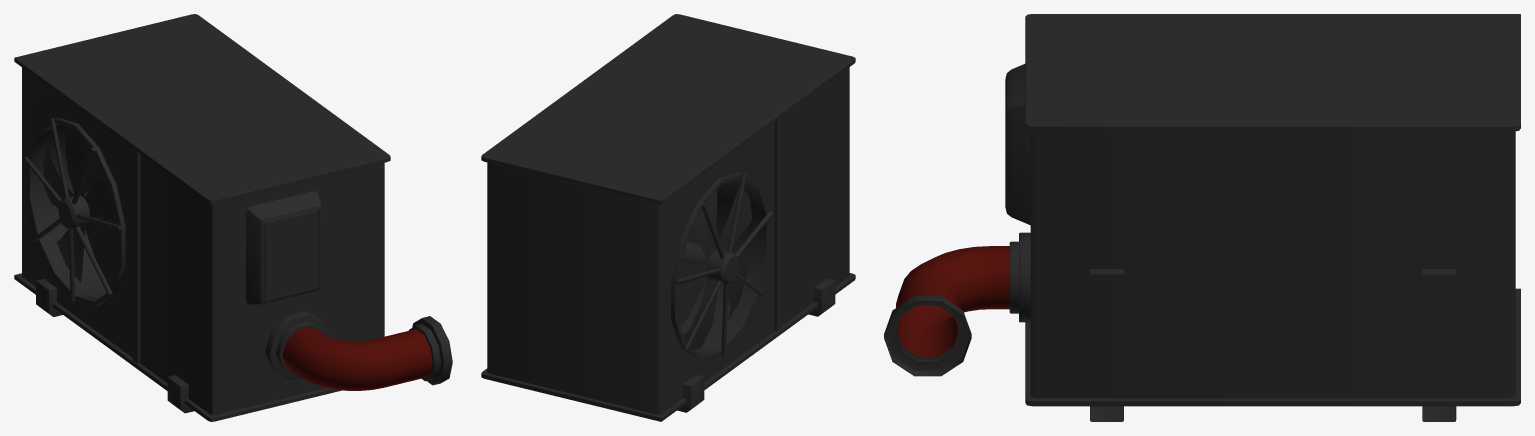
Rendered from ventilator.fbx.
3 renders of one model, left to right at view 1: azimuth 30°, elevation 25°; view 2: azimuth 150°, elevation 25°; view 3: azimuth 270°, elevation 25°, orthographic. The views are drawn at different scales.
Parts seen in each view (by area): view 1: ventilator, fluid, rotorBlade; view 2: ventilator, rotorBlade; view 3: ventilator, fluid.
Part boxes in pixels (x1,y1,x2,y2): ventilator: (14, 14, 452, 421); fluid: (282, 327, 432, 390); rotorBlade: (43, 127, 118, 292); ventilator: (481, 14, 855, 421); rotorBlade: (677, 185, 752, 349); ventilator: (884, 14, 1520, 421); fluid: (896, 246, 1009, 356).
Size of the model in its own units: 67.77 by 76.25 by 150.
